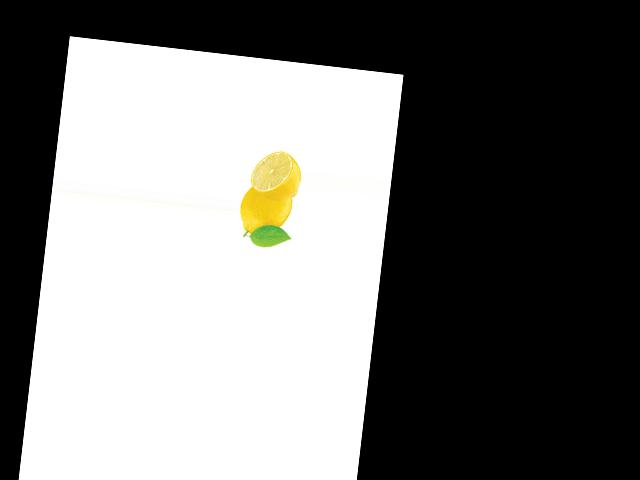lemon: (236, 184, 295, 243)
